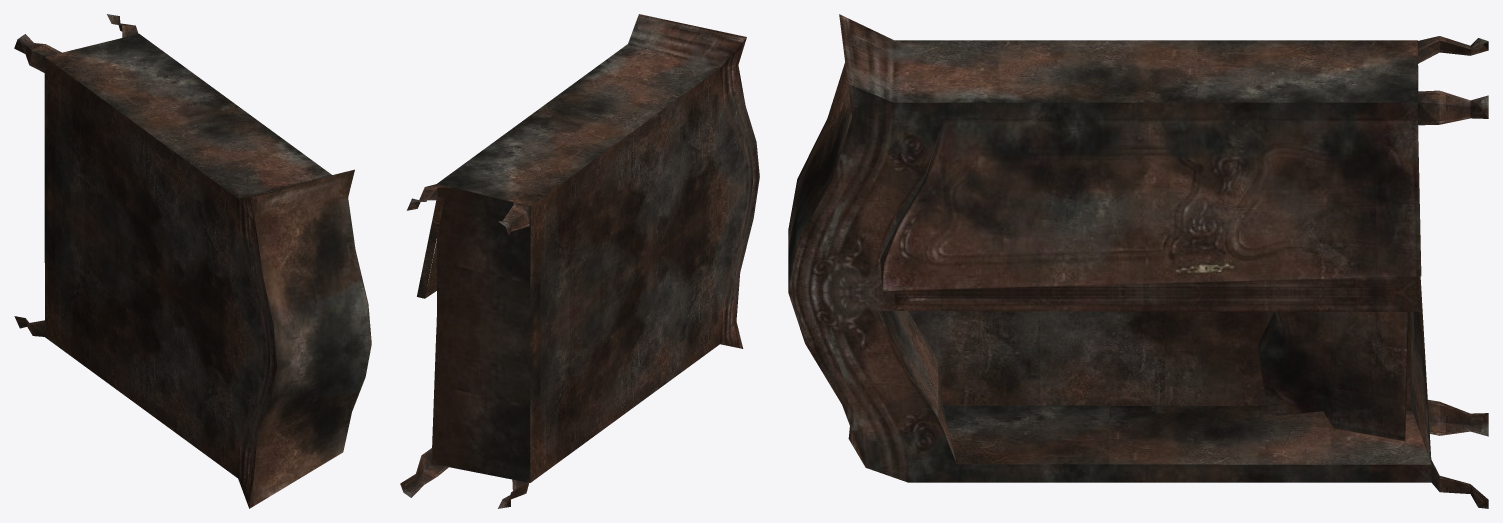
Rendered from furniture_armoire_d.glb.
The picture shows the model from 3 angles, left to right: view 1: azimuth 30°, elevation 25°; view 2: azimuth 150°, elevation 25°; view 3: azimuth 270°, elevation 25°; orthographic projection. The views are drawn at different scales.
Size of the model in its own units: 19.68 by 49.01 by 72.65.
1 material, 1 textured.
